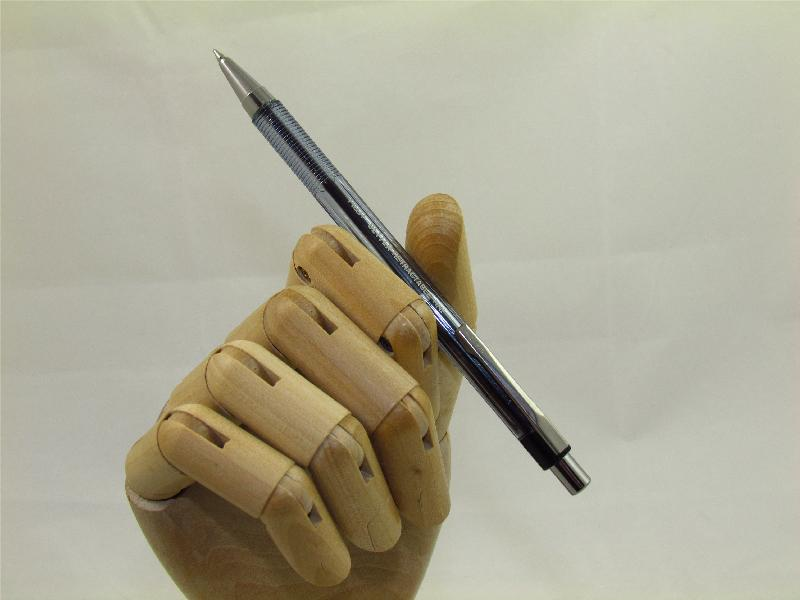pen: (209, 43, 592, 500)
